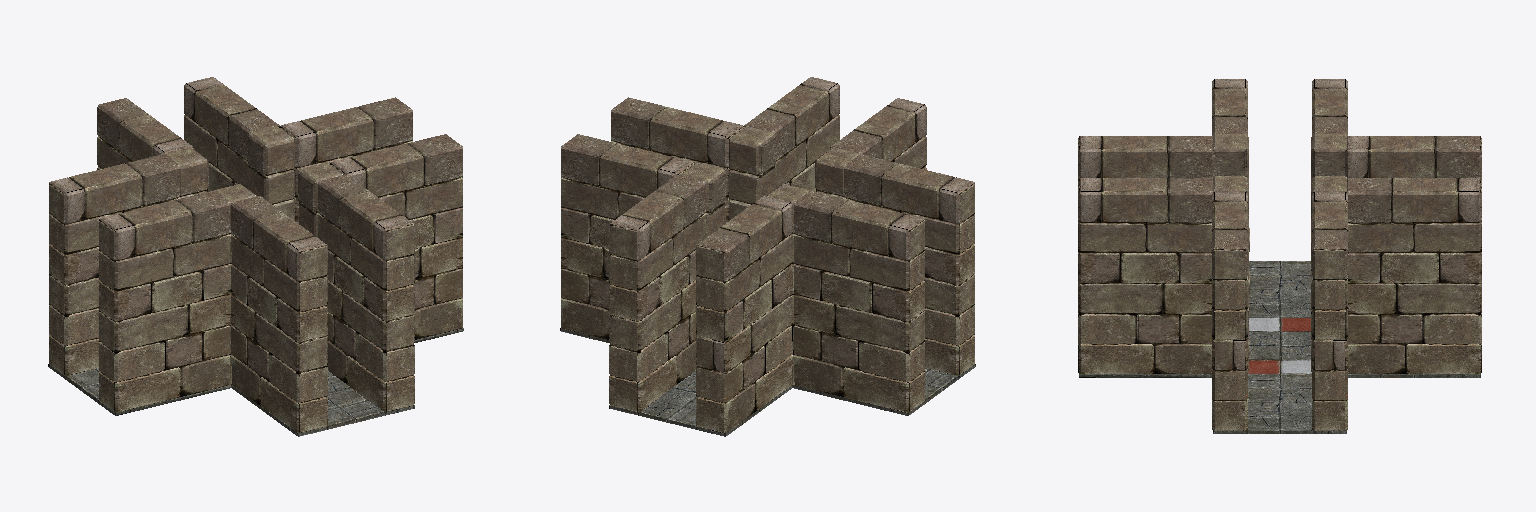
3 renders of one model, left to right at view 1: azimuth 30°, elevation 25°; view 2: azimuth 150°, elevation 25°; view 3: azimuth 270°, elevation 25°, orthographic.
Parts seen in each view (by area): view 1: Box4150, Box4149, Box4139, Box4132, Box4151, Box3456, Box4152, Box3458, Box4146, Box030, Box4147, Box4145 (+2 smaller); view 2: Box4132, Box3458, Box3456, Box4150, Box4152, Box4139, Box4151, Box4149, Box4147, Box4140, Box4146, Box4148 (+2 smaller); view 3: Box3456, Box4139, Box4151, Box4152, Box3458, Box4149, Box026, Box024, Box00234, Box4132, Box4150, Box4145 (+5 smaller).
Boxes of the visible parts, x1=… form: Box4150: x1=99, y1=191, x2=231, y2=412; Box4149: x1=231, y1=196, x2=327, y2=432; Box4139: x1=318, y1=175, x2=414, y2=411; Box4132: x1=49, y1=154, x2=179, y2=375; Box4151: x1=330, y1=134, x2=462, y2=339; Box3456: x1=184, y1=77, x2=279, y2=191; Box4152: x1=280, y1=97, x2=412, y2=223; Box3458: x1=97, y1=98, x2=193, y2=169; Box4146: x1=248, y1=126, x2=294, y2=220; Box030: x1=231, y1=371, x2=414, y2=436; Box4147: x1=298, y1=163, x2=342, y2=237; Box4145: x1=164, y1=147, x2=208, y2=198; Box4132: x1=792, y1=191, x2=924, y2=412; Box3458: x1=696, y1=196, x2=792, y2=432; Box3456: x1=609, y1=175, x2=705, y2=411; Box4150: x1=843, y1=154, x2=974, y2=375; Box4152: x1=561, y1=134, x2=693, y2=339; Box4139: x1=744, y1=77, x2=839, y2=191; Box4151: x1=611, y1=97, x2=743, y2=222; Box4149: x1=830, y1=98, x2=926, y2=169; Box4147: x1=729, y1=126, x2=775, y2=220; Box4140: x1=609, y1=371, x2=792, y2=436; Box4146: x1=681, y1=163, x2=725, y2=237; Box4148: x1=815, y1=147, x2=859, y2=197; Box3456: x1=1346, y1=178, x2=1481, y2=373; Box4139: x1=1078, y1=178, x2=1213, y2=373; Box4151: x1=1212, y1=192, x2=1247, y2=430; Box4152: x1=1312, y1=192, x2=1347, y2=430; Box3458: x1=1345, y1=136, x2=1481, y2=179; Box4149: x1=1078, y1=136, x2=1214, y2=179; Box026: x1=1213, y1=374, x2=1346, y2=433; Box024: x1=1249, y1=261, x2=1310, y2=317; Box00234: x1=1248, y1=318, x2=1311, y2=373; Box4132: x1=1312, y1=79, x2=1347, y2=135; Box4150: x1=1212, y1=79, x2=1247, y2=135; Box4145: x1=1311, y1=134, x2=1346, y2=270.
Size of the model in its own units: 6.04 by 3.08 by 6.04.
Materials: 3 (3 with a texture image).